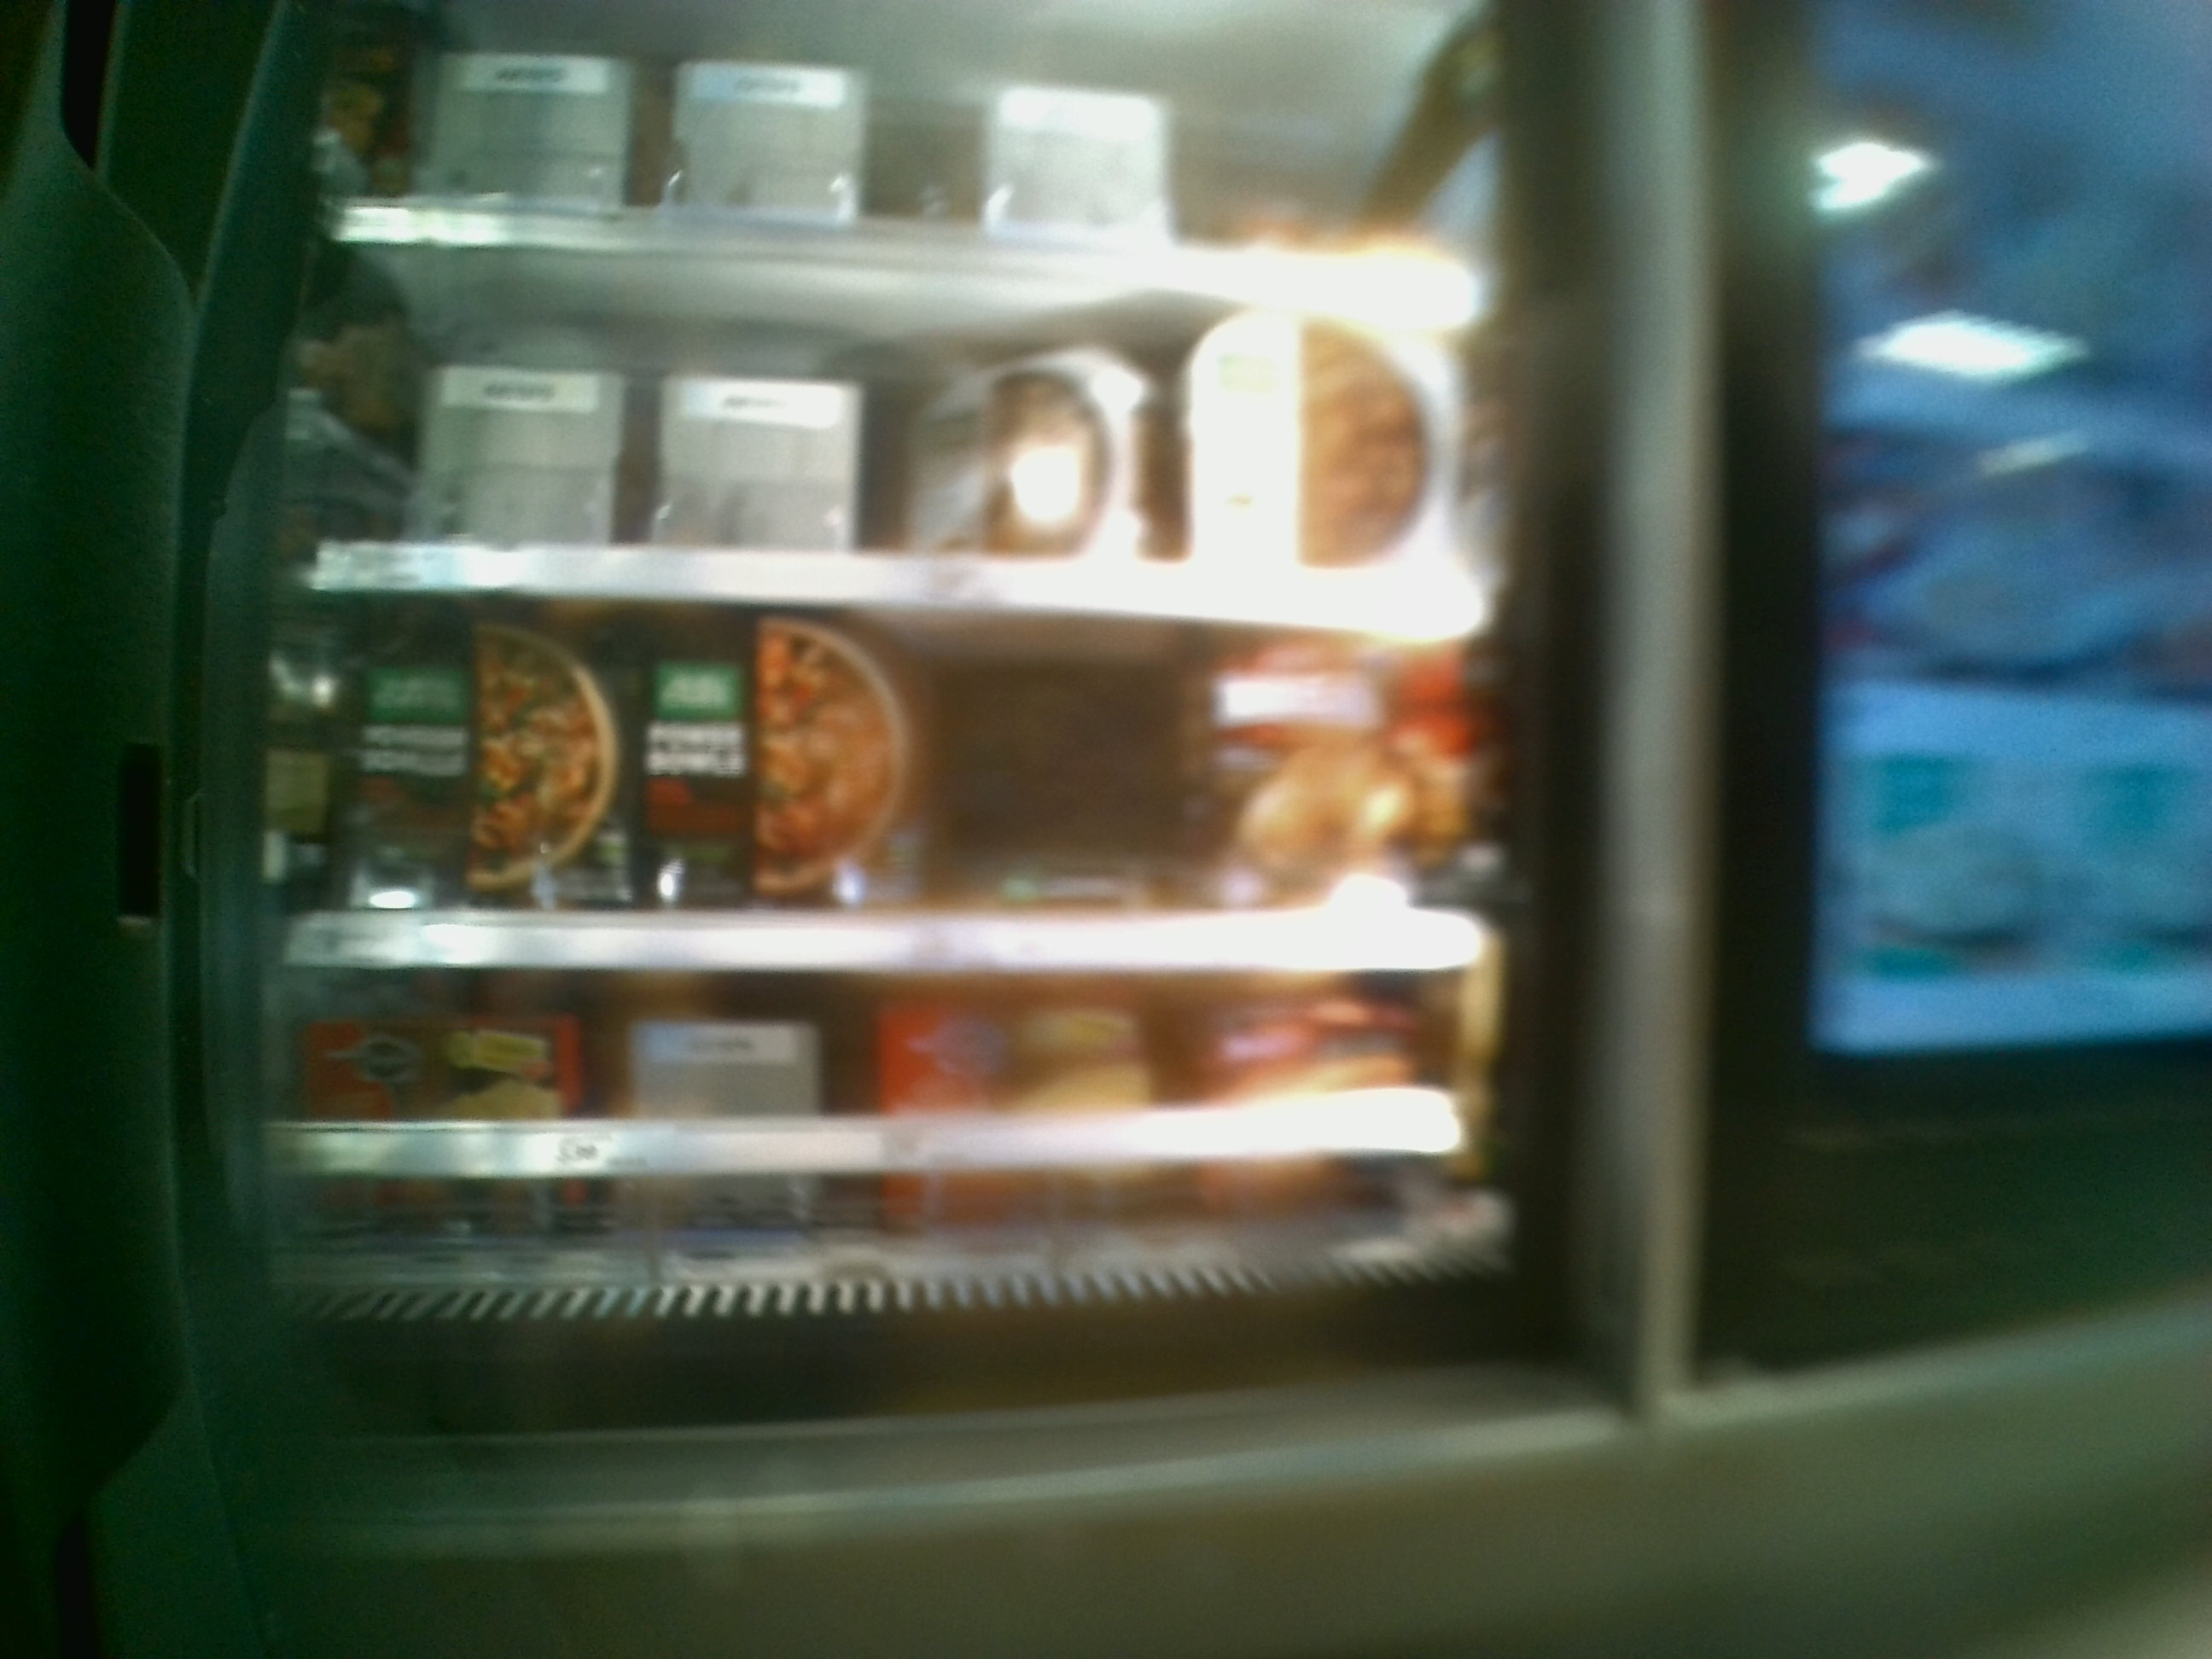shelf: (298, 580, 1529, 972), (258, 979, 1533, 1351)
